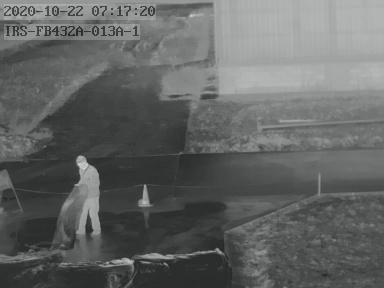person: (74, 154, 99, 234)
